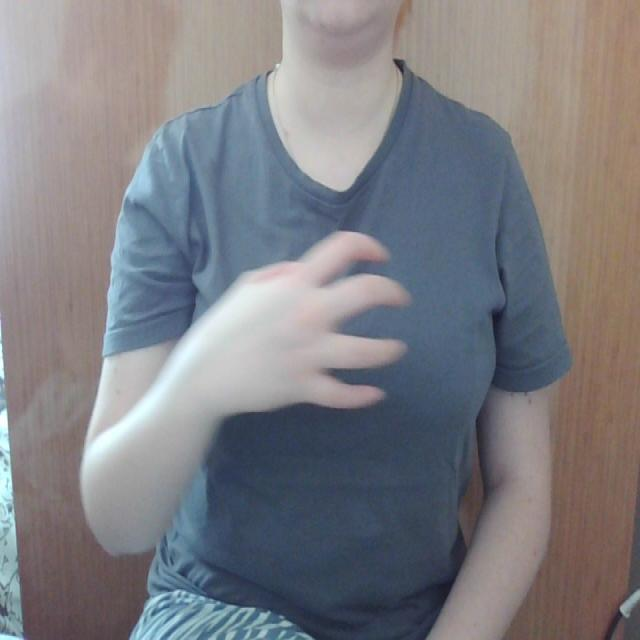Anne: (164, 220, 516, 438)
